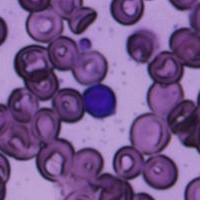L: (82, 83, 117, 118)
